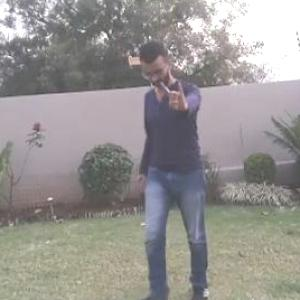takeoff-hand: (159, 75, 195, 116)
